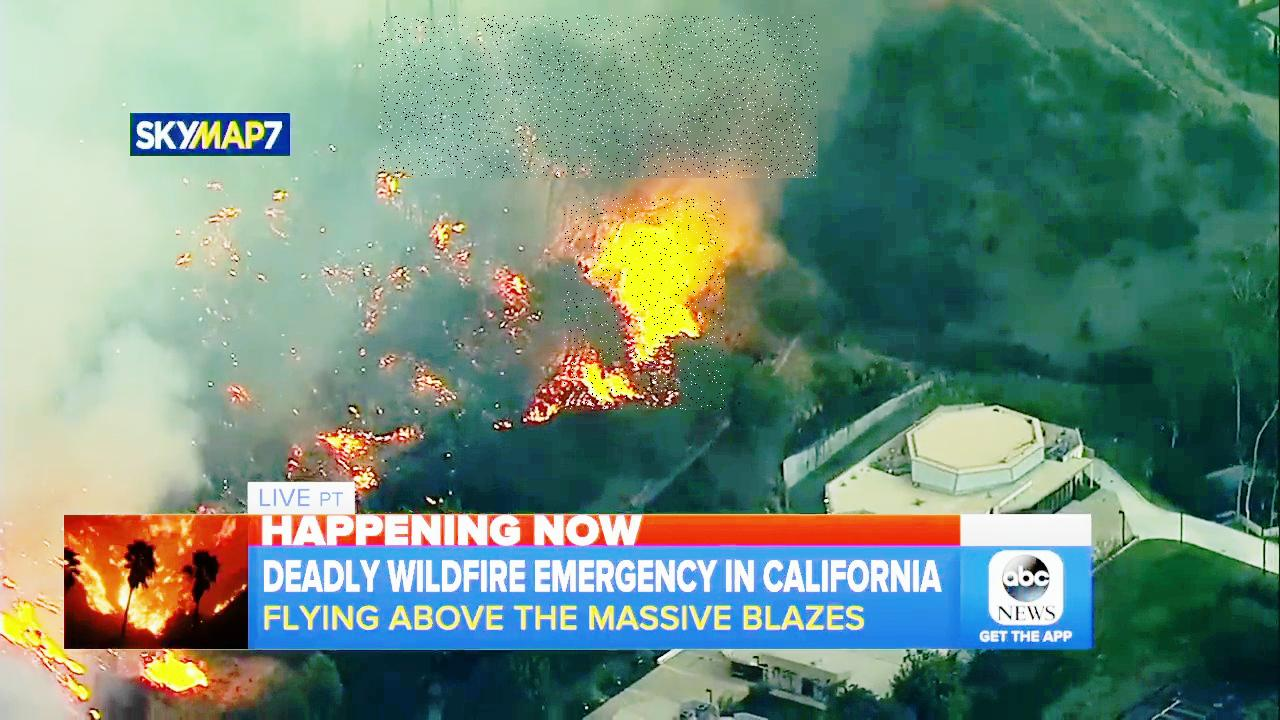fire: (564, 197, 725, 410)
smoke: (379, 15, 818, 178)
